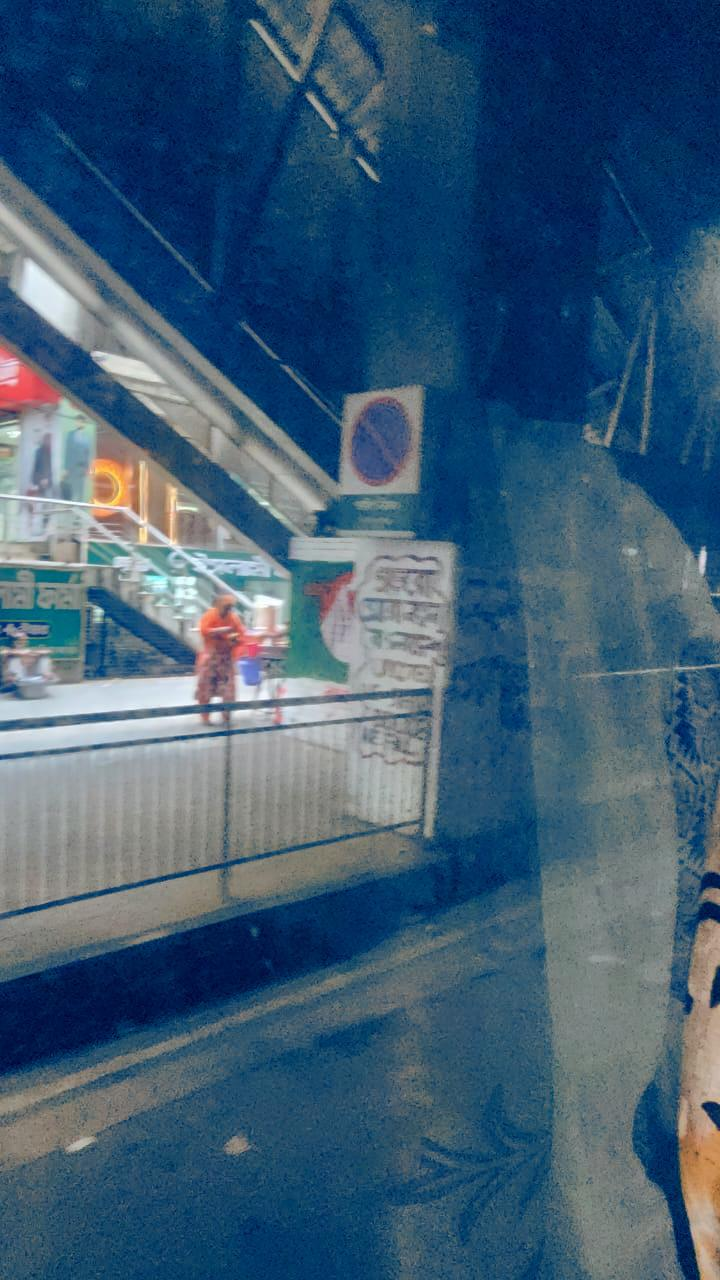No Parking: (330, 382, 427, 537)
